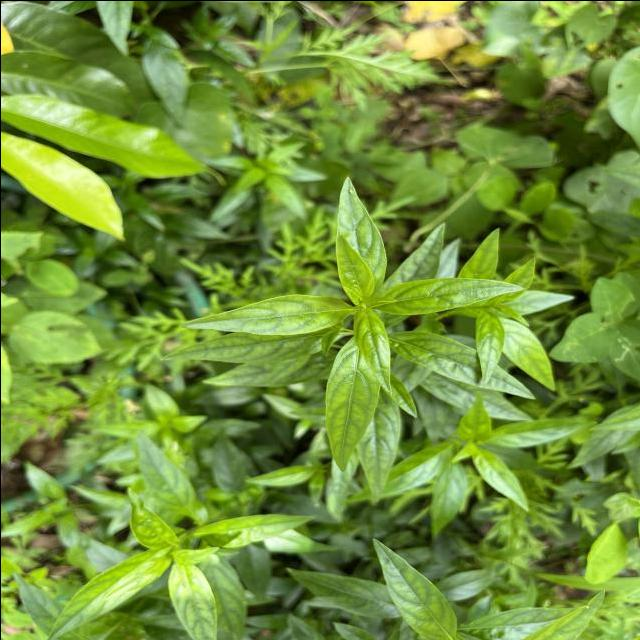Andrographis paniculata: (44, 545, 167, 640), (388, 329, 548, 399), (372, 535, 459, 640), (178, 292, 352, 336), (322, 338, 376, 472), (341, 440, 454, 504), (156, 329, 335, 364), (370, 275, 526, 315), (285, 566, 396, 620), (336, 174, 386, 285), (469, 446, 530, 512), (168, 560, 218, 640), (352, 308, 396, 397), (486, 418, 596, 448), (332, 232, 376, 306), (472, 309, 506, 384)
